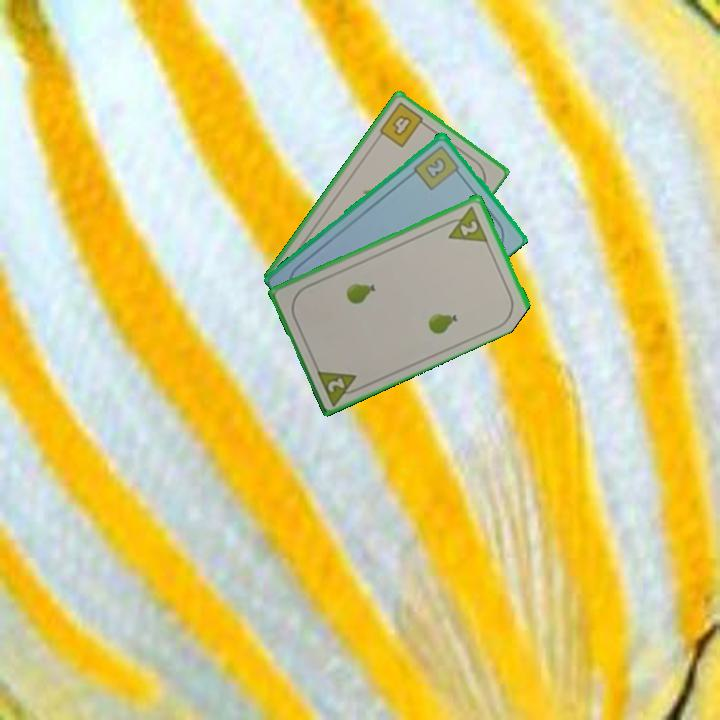2b: (410, 142, 464, 192)
2p: (313, 365, 366, 407), (440, 202, 490, 245)
4b: (375, 98, 431, 150)
